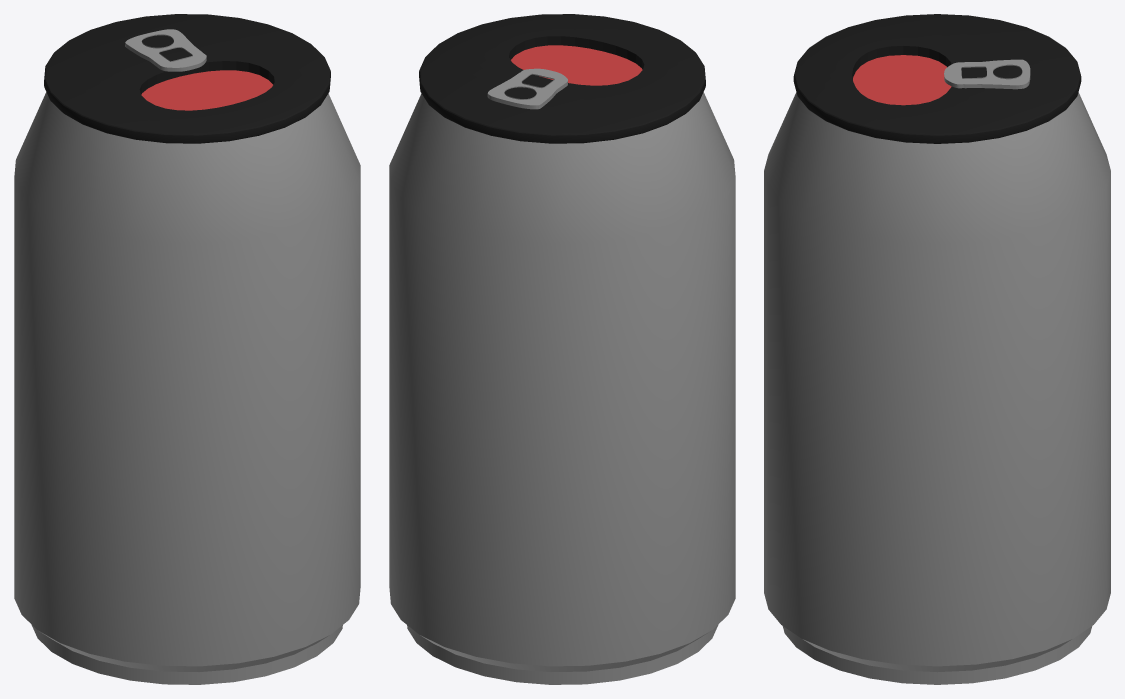
File: Cann.FBX
The picture shows the model from 3 angles, left to right: view 1: azimuth 30°, elevation 25°; view 2: azimuth 150°, elevation 25°; view 3: azimuth 270°, elevation 25°; orthographic projection.
Parts seen in each view (by area): view 1: Cylinder001; view 2: Cylinder001; view 3: Cylinder001.
Boxes of the visible parts, <box> form: Cylinder001: <box>14,14,360,684</box>; Cylinder001: <box>389,14,735,684</box>; Cylinder001: <box>764,14,1110,684</box>.
Bounding box in the file's own units: 14.26 × 24.96 × 14.26.
